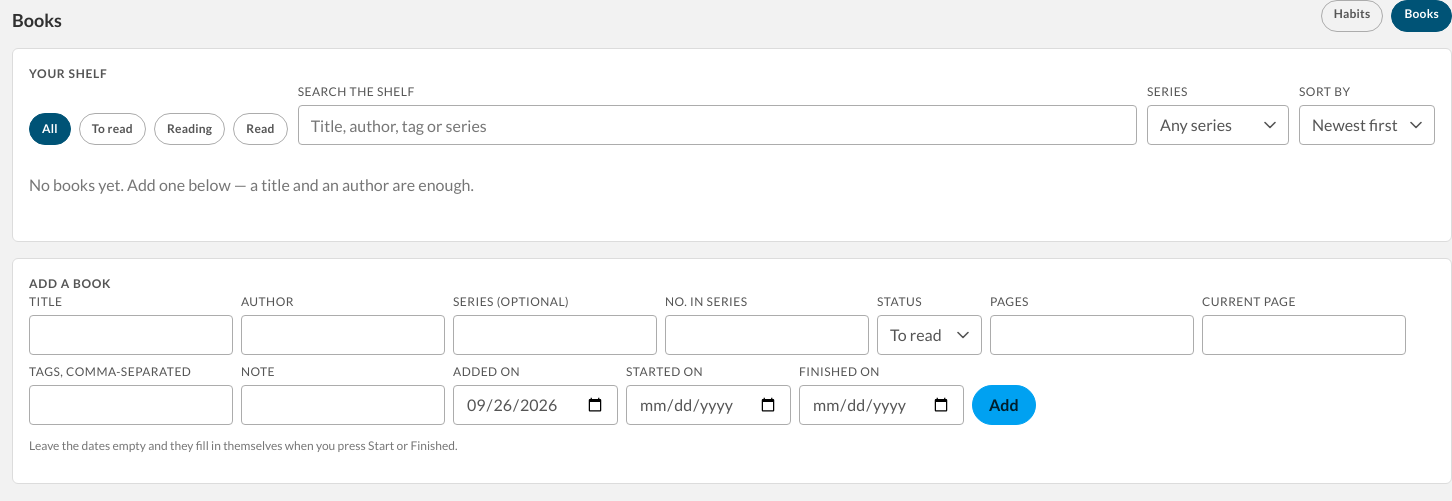
Scenario: BooksPage › says when the shelf is empty, and differently when nothing matches
Expected: the text "No books yet" is shown, [29,175,474,194]
Click the button "Read" at (260, 129), box [233,113,288,145]
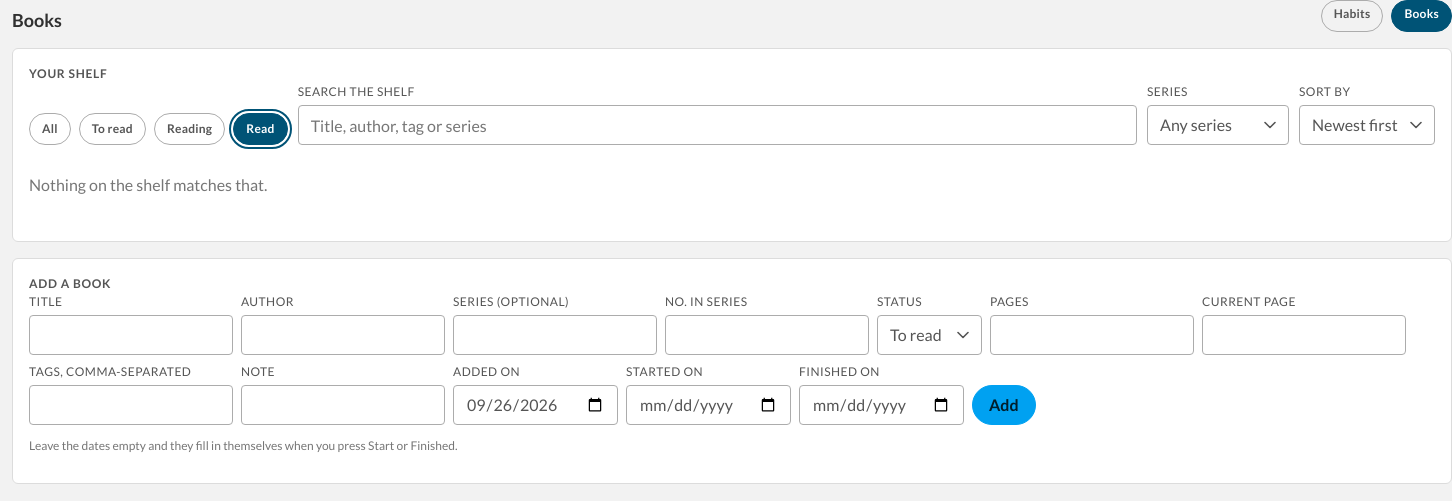
Expected: the text "Nothing on the shelf matches that." is shown, [29,175,268,194]
